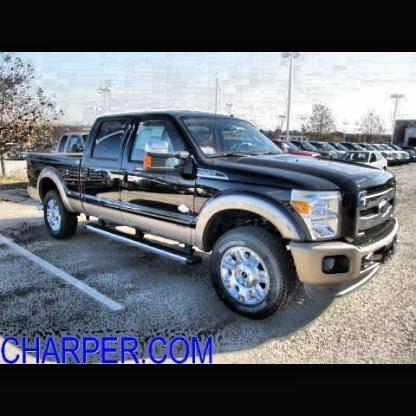Ford F-450 Super Duty Crew Cab 2012: (26, 110, 402, 318)
